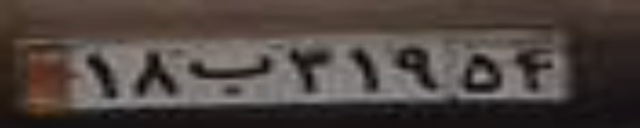1: (84, 53, 118, 98), (351, 46, 379, 90)
3: (290, 45, 332, 92)
4: (514, 47, 554, 91)
5: (460, 52, 503, 92)
8: (127, 51, 177, 96)
9: (395, 46, 439, 90)
be: (186, 53, 273, 94)
